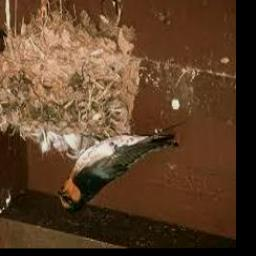Swallow: (58, 132, 178, 212)
